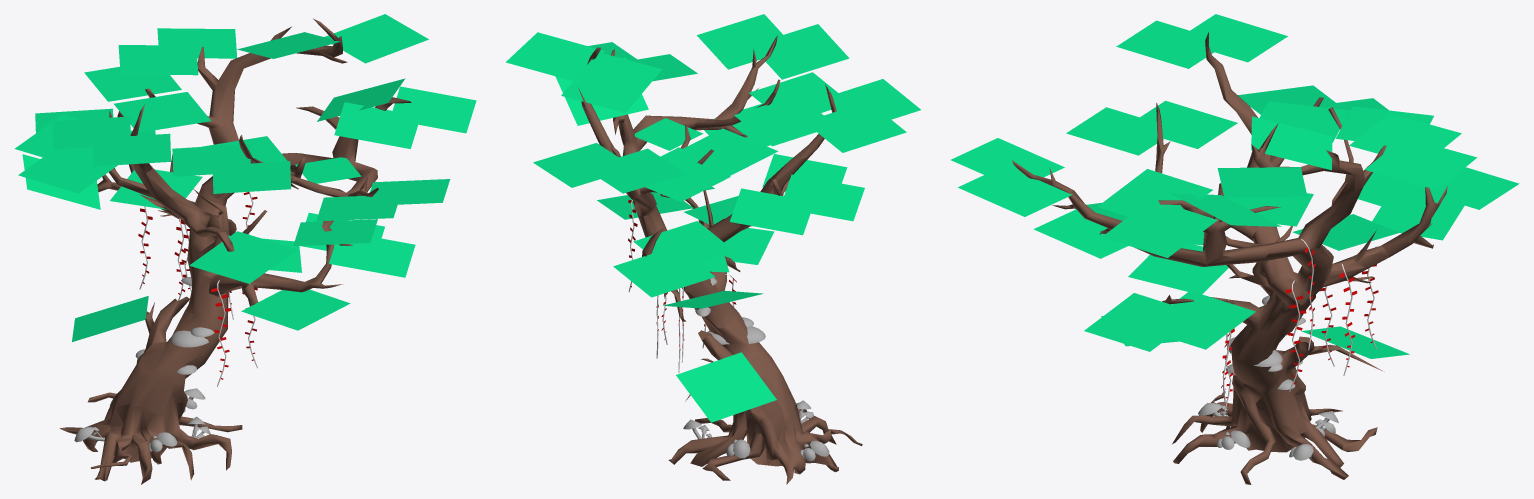
File: forunity.fbx
The picture shows the model from 3 angles, left to right: view 1: azimuth 30°, elevation 25°; view 2: azimuth 150°, elevation 25°; view 3: azimuth 270°, elevation 25°; orthographic projection. The views are drawn at different scales.
Visible parts, largest first — view 1: tree; view 2: tree; view 3: tree.
Boxes of the visible parts, left/top/right/bottom form: tree: left=14, top=14, right=476, bottom=484; tree: left=505, top=14, right=920, bottom=484; tree: left=951, top=14, right=1519, bottom=484.
Size of the model in its own units: 452 by 427 by 520.
